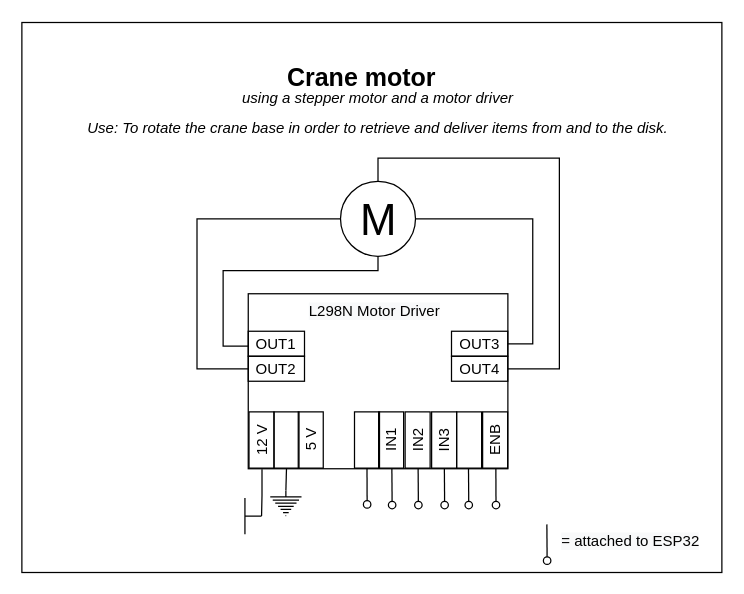
The diagram is 744 pixels wide and 594 high, and some of its shapes have lost their labels. The shapes that lost their labels are listed below. From the top down, each one's centre as x and y in pixels, then its label:
At (x=286, y=439): "GND".
At (x=366, y=439): "ENA".
At (x=468, y=439): "IN4".
At (x=253, y=515): "Vss = 3.3V".
